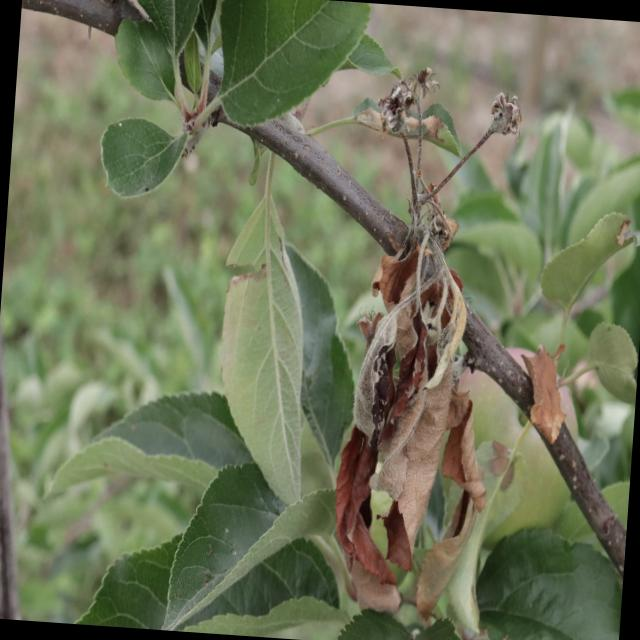-FireBlight-: (316, 219, 506, 615), (526, 334, 569, 462)
